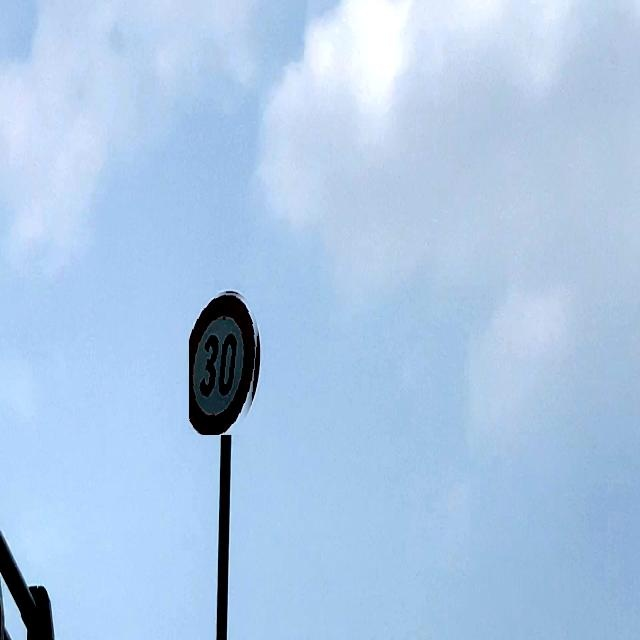bien_cam: (189, 289, 261, 435)
